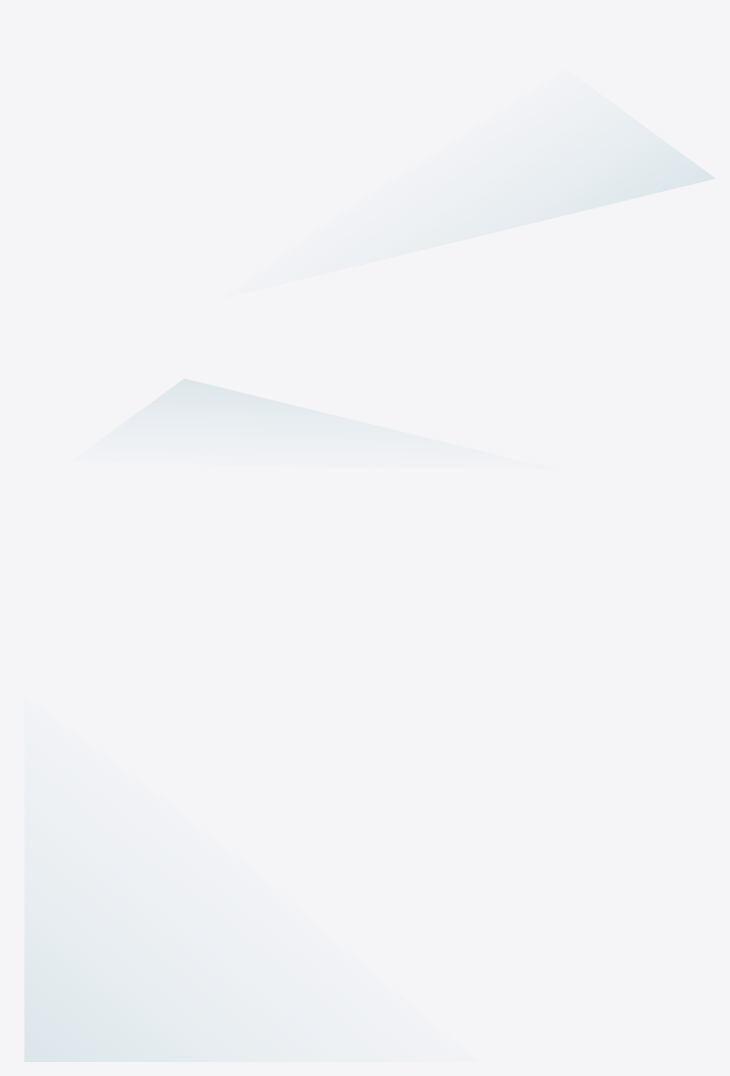
3 renders of one model, top to bottom at view 1: azimuth 30°, elevation 25°; view 2: azimuth 150°, elevation 25°; view 3: azimuth 270°, elevation 25°, orthographic. The views are drawn at different scales.
Parts seen in each view (by area): view 1: city; view 2: city; view 3: city.
Boxes of the visible parts, x1=… form: city: x1=586, y1=150, x2=714, y2=209; city: x1=156, y1=379, x2=280, y2=402; city: x1=25, y1=965, x2=141, y2=1061.
Size of the model in its own units: 234 by 0 by 130.
